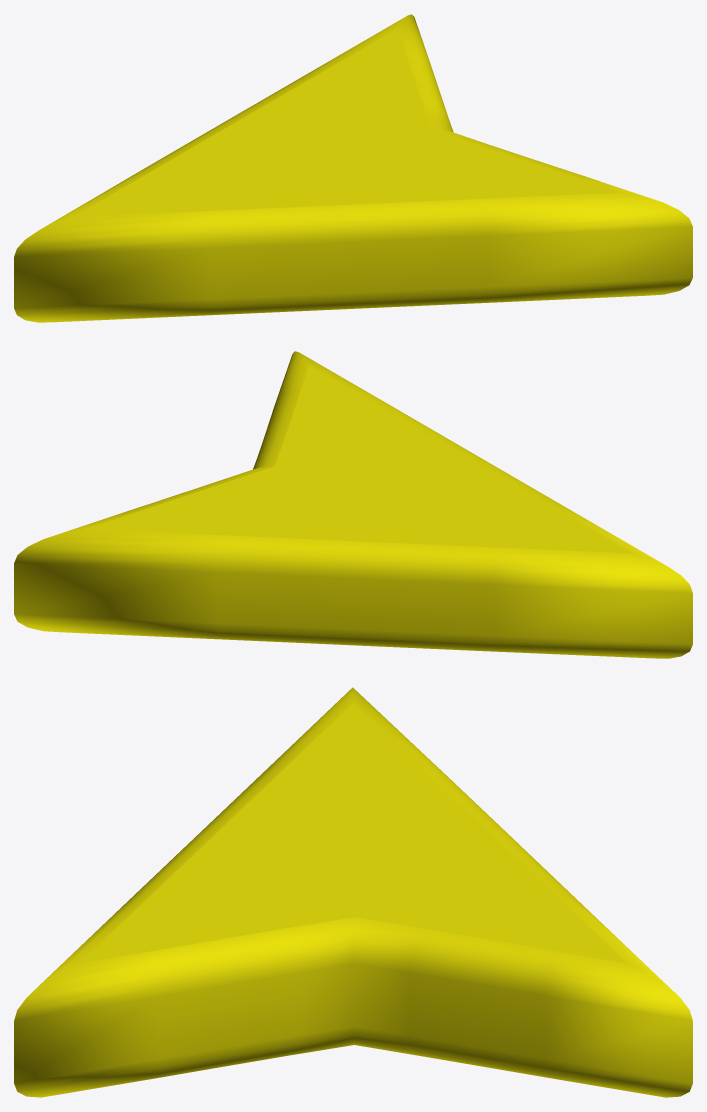
The model's file is arrow.glb.
3 renders of one model, top to bottom at view 1: azimuth 30°, elevation 25°; view 2: azimuth 150°, elevation 25°; view 3: azimuth 270°, elevation 25°, orthographic. The views are drawn at different scales.
Parts seen in each view (by area): view 1: Curve.056; view 2: Curve.056; view 3: Curve.056.
Boxes of the visible parts, x1=… form: Curve.056: x1=14, y1=14, x2=692, y2=322; Curve.056: x1=14, y1=351, x2=692, y2=658; Curve.056: x1=14, y1=687, x2=692, y2=1097.
Size of the model in its own units: 2.22 by 0.4 by 1.98.
